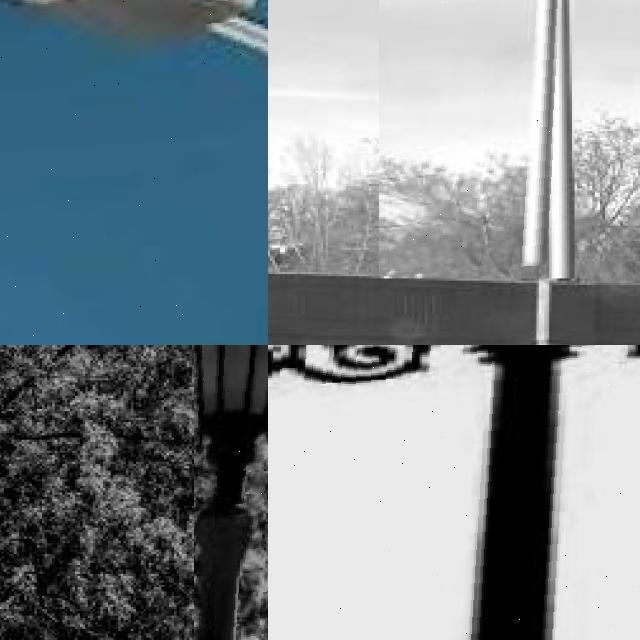street light: (268, 345, 640, 640), (0, 0, 268, 345), (379, 0, 574, 278), (194, 345, 268, 640)
